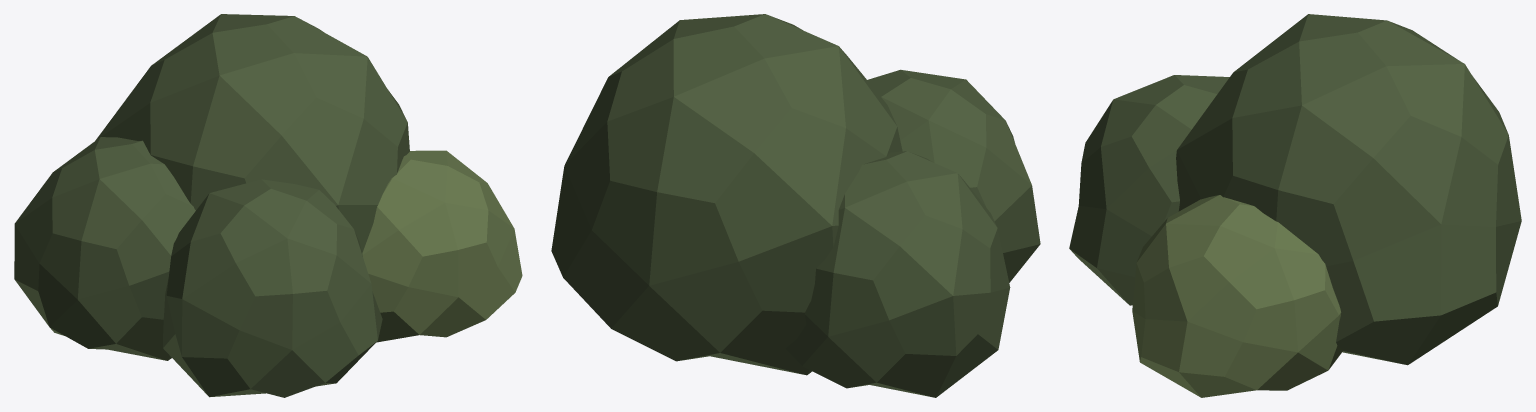
File: bush_cluster_2_v1.fbx
3 views of the same model, side by side, from view 1: azimuth 30°, elevation 25°; view 2: azimuth 150°, elevation 25°; view 3: azimuth 270°, elevation 25° (orthographic). The views are drawn at different scales.
Parts seen in each view (by area): view 1: bush_4, bush_3, bush_2, bush_1; view 2: bush_4, bush_2, bush_3; view 3: bush_4, bush_1, bush_3.
Part boxes in pixels (<box>): bush_4: <box>95,14,409,252</box>; bush_3: <box>163,179,382,397</box>; bush_2: <box>14,137,195,360</box>; bush_1: <box>362,150,522,342</box>; bush_4: <box>551,14,902,375</box>; bush_2: <box>786,151,1010,397</box>; bush_3: <box>867,69,1040,282</box>; bush_4: <box>1176,14,1521,365</box>; bush_1: <box>1132,195,1343,397</box>; bush_3: <box>1069,75,1229,305</box>.
Size of the model in its own units: 1.61 by 1.01 by 1.42.
